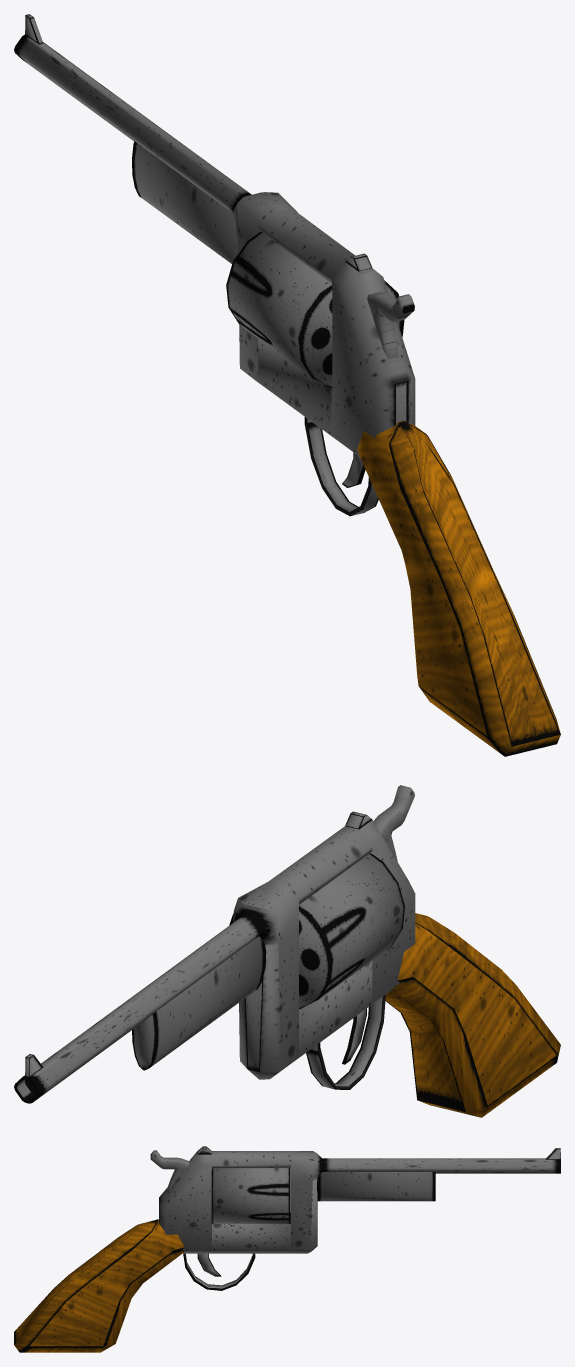
The model's file is revolver.obj.
3 renders of one model, top to bottom at view 1: azimuth 30°, elevation 25°; view 2: azimuth 150°, elevation 25°; view 3: azimuth 270°, elevation 25°, orthographic. The views are drawn at different scales.
Parts seen in each view (by area): view 1: revolver; view 2: revolver; view 3: revolver.
Part boxes in pixels (left/top/right/bottom): revolver: left=14, top=14, right=560, bottom=756; revolver: left=14, top=785, right=560, bottom=1117; revolver: left=14, top=1146, right=560, bottom=1352.
Size of the model in its own units: 0.4075 by 1.36 by 3.41.
